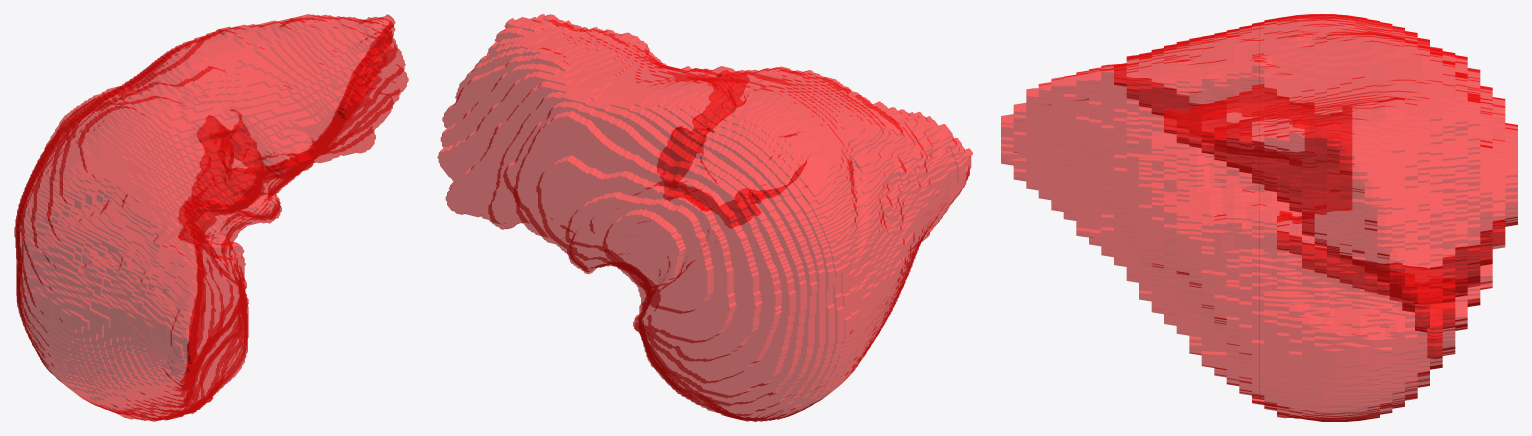
File: Patient1.glb
The picture shows the model from 3 angles, left to right: view 1: azimuth 30°, elevation 25°; view 2: azimuth 150°, elevation 25°; view 3: azimuth 270°, elevation 25°; orthographic projection. The views are drawn at different scales.
Parts seen in each view (by area): view 1: world; view 2: world; view 3: world.
Part boxes in pixels (box(x1,y1,x2,y2)): world: box(14, 14, 408, 421); world: box(437, 14, 972, 421); world: box(1001, 14, 1517, 421).
Size of the model in its own units: 1.88 by 1.49 by 1.65.
